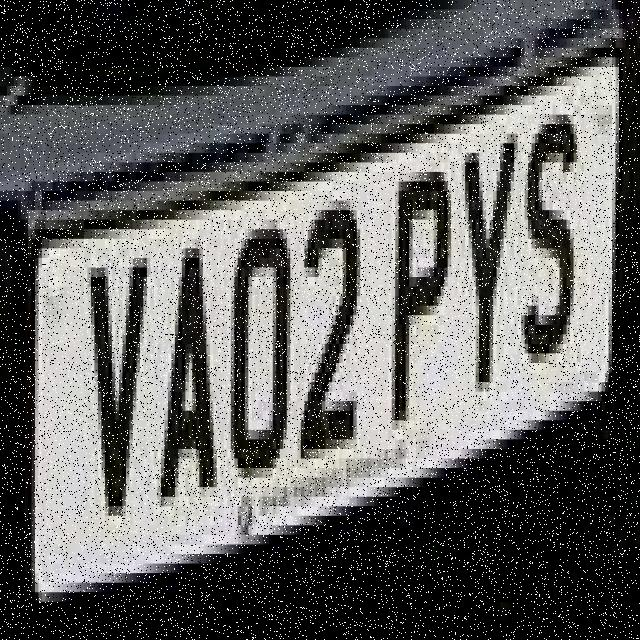licenseplate: (5, 16, 631, 621)
